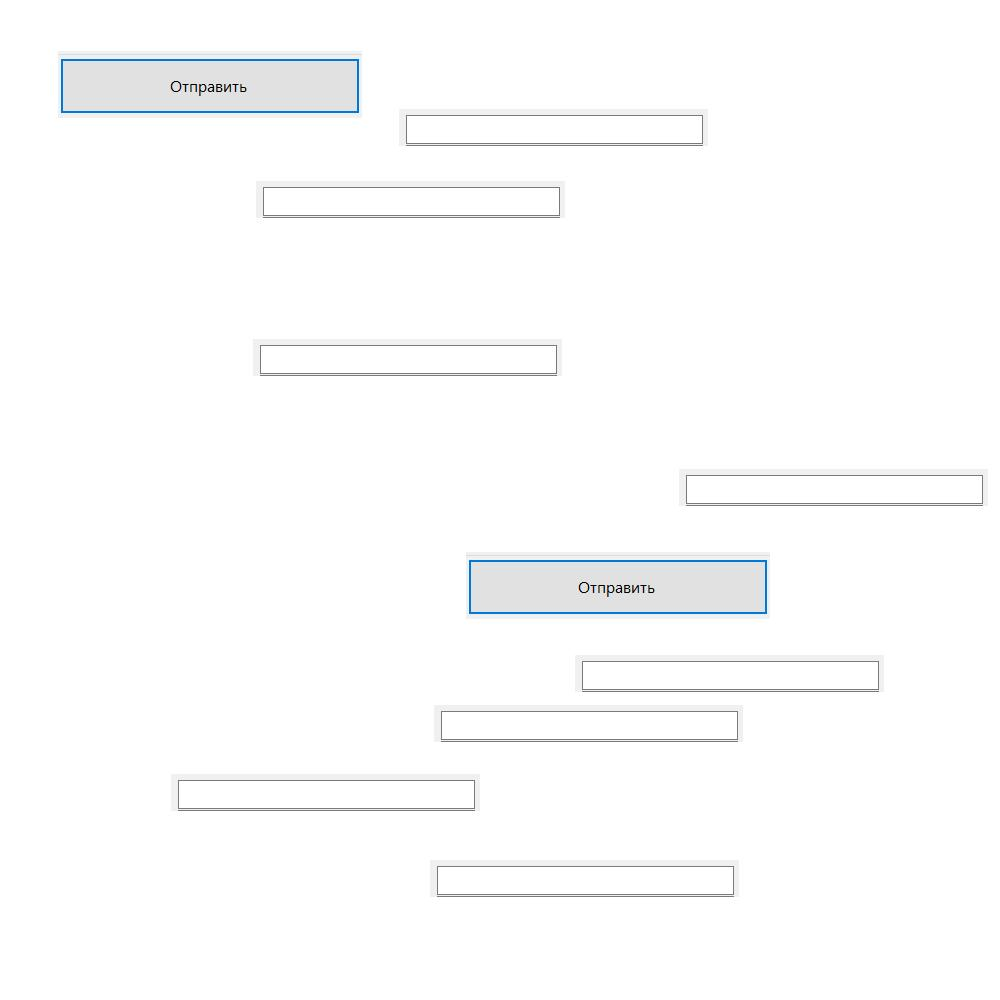Button: (58, 51, 362, 118), (466, 552, 770, 619)
EditText-: (253, 339, 562, 376), (256, 181, 565, 218), (399, 109, 708, 146), (434, 705, 743, 742), (575, 655, 884, 692), (679, 469, 988, 506), (430, 860, 739, 897), (171, 774, 480, 811)
